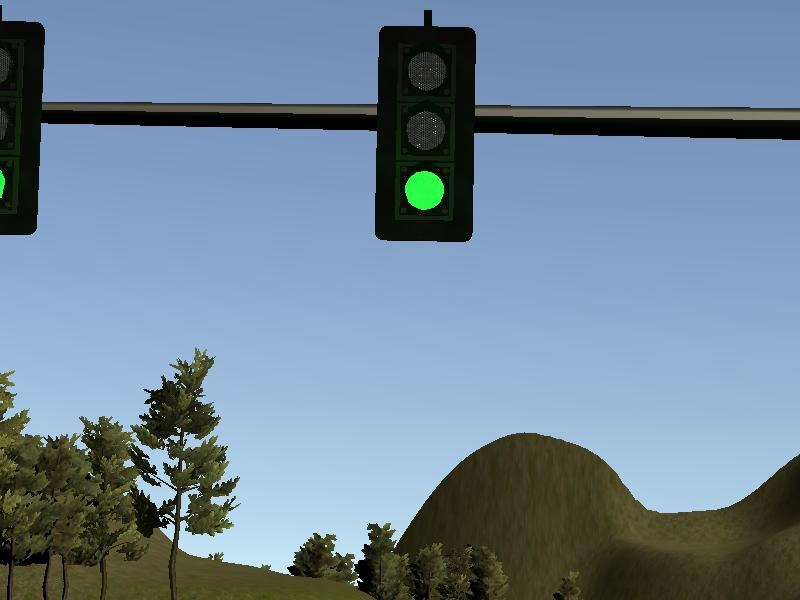green: (374, 27, 473, 240)
